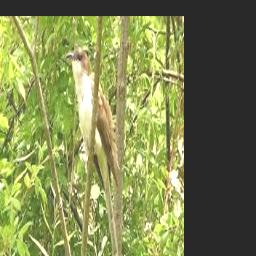Cuckoo: (65, 49, 120, 186)
